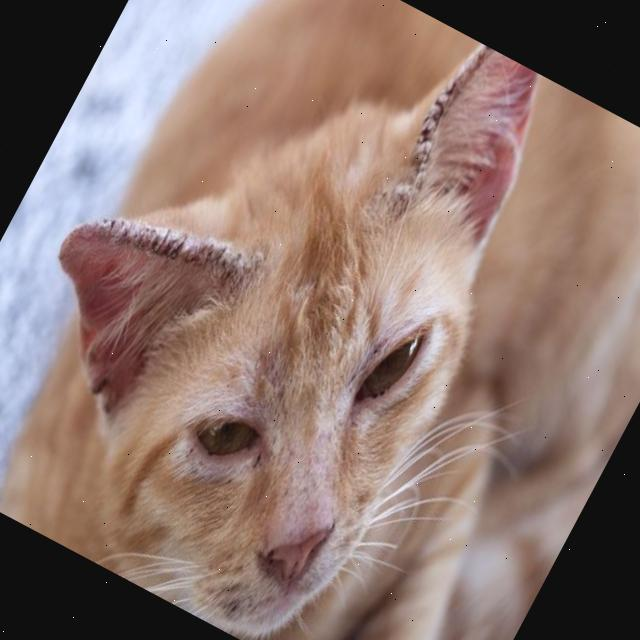cat-scabies: (78, 178, 264, 351), (394, 38, 514, 200)
